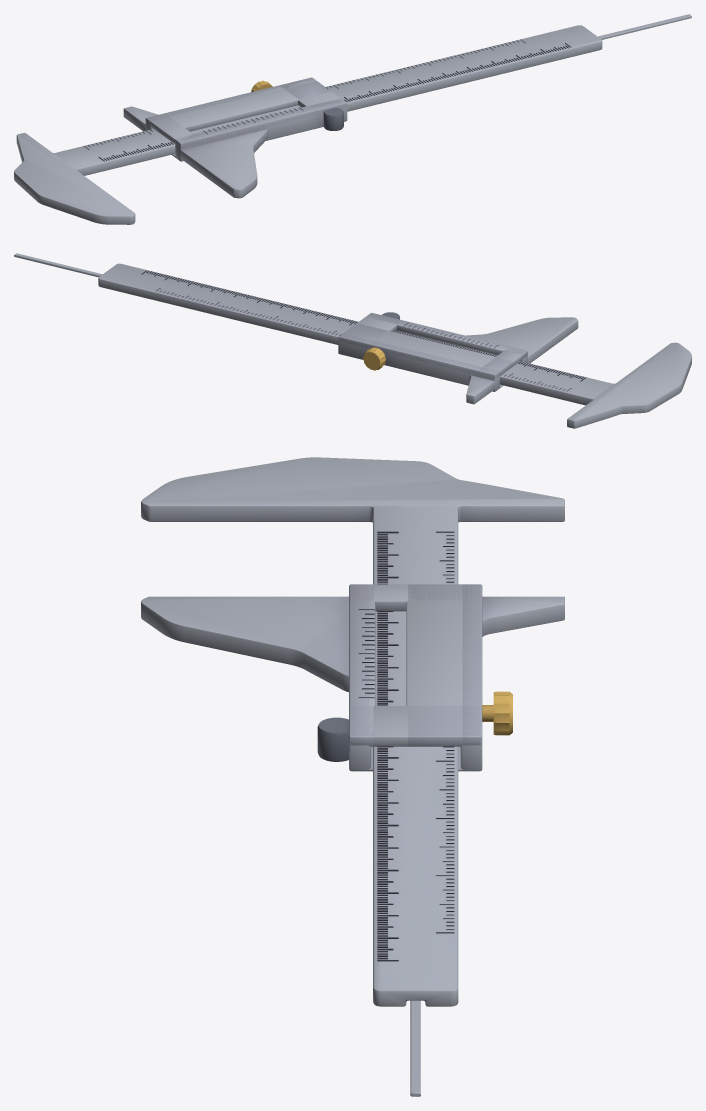
The model's file is vernier-caliper.glb.
3 renders of one model, top to bottom at view 1: azimuth 30°, elevation 25°; view 2: azimuth 150°, elevation 25°; view 3: azimuth 270°, elevation 25°, orthographic. The views are drawn at different scales.
Parts seen in each view (by area): view 1: vernier-caliper_body, vernier-caliper_slider_carriage; view 2: vernier-caliper_body, vernier-caliper_slider_carriage; view 3: vernier-caliper_body, vernier-caliper_slider_carriage.
Part boxes in pixels (x1,y1,x2,y2): vernier-caliper_body: (14, 25, 602, 224); vernier-caliper_slider_carriage: (123, 14, 691, 198); vernier-caliper_body: (98, 263, 691, 428); vernier-caliper_slider_carriage: (14, 253, 578, 404); vernier-caliper_body: (141, 457, 564, 1006); vernier-caliper_slider_carriage: (141, 584, 564, 1096).
Bounding box in the file's own units: 0.2769 × 0.00819 × 0.0795.
Materials: 2 (2 with a texture image).
